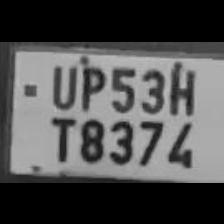3: (136, 62, 166, 112), (104, 114, 134, 164)
4: (162, 114, 196, 168)
5: (104, 62, 138, 110)
7: (135, 114, 163, 166)
8: (76, 113, 104, 162)
H: (164, 60, 198, 114)
P: (76, 60, 106, 108)
T: (43, 111, 76, 160)
U: (44, 57, 78, 106)
